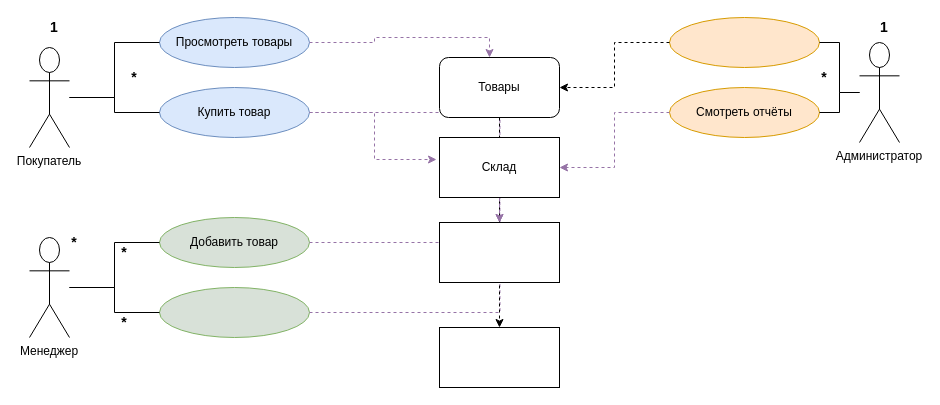
Image size: 940x405. Some labels were removed from this diagram. Here are the shapes that lost their labels. From the top down, the centre of each, then its label:
the point at 744,42: Управлять брендами
the point at 499,252: Продажи
the point at 234,312: Пополнить склад
the point at 499,357: Бренды
